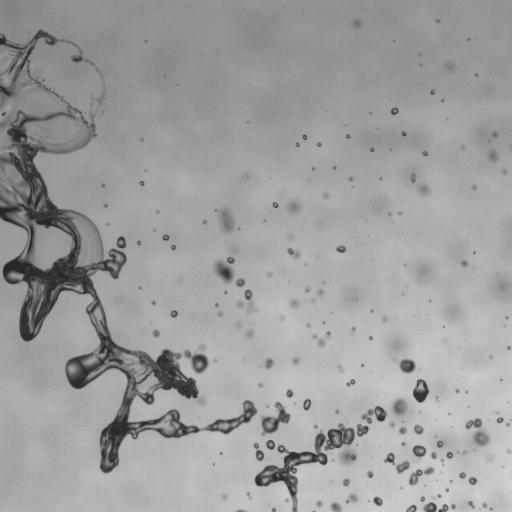droplet: (260, 401, 290, 436), (213, 257, 245, 287), (384, 452, 409, 473), (217, 207, 234, 233), (412, 378, 429, 402), (395, 358, 415, 373), (312, 331, 330, 347), (392, 398, 407, 415), (412, 444, 426, 461), (287, 200, 301, 213), (418, 183, 430, 195), (487, 150, 498, 162), (287, 248, 300, 258), (345, 493, 358, 503), (330, 502, 342, 511), (413, 424, 423, 434), (264, 358, 273, 369), (373, 496, 382, 506), (303, 399, 311, 410), (289, 298, 298, 307), (468, 476, 477, 485), (336, 245, 346, 253), (398, 426, 406, 434), (342, 478, 350, 486), (346, 379, 355, 386), (406, 505, 416, 511), (390, 107, 398, 114), (316, 289, 323, 297), (170, 310, 178, 317), (152, 329, 159, 337), (246, 329, 253, 337), (286, 389, 293, 397), (446, 63, 453, 70), (486, 454, 493, 461), (366, 471, 373, 478), (480, 502, 488, 508), (353, 20, 360, 26), (162, 234, 169, 240), (461, 260, 468, 266), (237, 300, 243, 307), (292, 357, 298, 364), (337, 365, 343, 372), (496, 417, 503, 423), (437, 440, 443, 447), (446, 451, 452, 458), (430, 452, 436, 459), (316, 500, 322, 507), (468, 501, 474, 508), (410, 174, 415, 182), (231, 247, 237, 253), (459, 472, 465, 478), (434, 493, 441, 498), (492, 131, 497, 137), (323, 192, 328, 198), (272, 202, 278, 207), (389, 422, 395, 427), (401, 131, 406, 136), (302, 134, 307, 139), (348, 176, 353, 181), (267, 272, 272, 277), (305, 287, 310, 292), (382, 317, 387, 322), (236, 323, 241, 328), (222, 494, 227, 499), (422, 151, 427, 155), (139, 181, 144, 185), (171, 244, 175, 249), (279, 316, 284, 320), (351, 327, 355, 332), (258, 383, 263, 387), (247, 493, 251, 498), (420, 496, 424, 501), (430, 90, 434, 94), (346, 134, 350, 138), (317, 142, 321, 146), (502, 169, 506, 173), (472, 185, 476, 189), (202, 219, 206, 223), (288, 235, 292, 239), (218, 312, 222, 316), (455, 388, 459, 392), (507, 449, 511, 453), (462, 450, 466, 454), (137, 241, 140, 245), (311, 298, 314, 302), (306, 324, 310, 327), (435, 396, 438, 400), (335, 409, 338, 413), (506, 422, 509, 426), (313, 425, 317, 428), (401, 442, 405, 445), (440, 459, 443, 463), (272, 508, 276, 511), (296, 143, 299, 146), (461, 145, 464, 148), (370, 148, 373, 151), (333, 166, 336, 169), (398, 212, 401, 215), (152, 301, 155, 304), (215, 303, 218, 306), (369, 336, 372, 339), (213, 359, 216, 362), (361, 364, 364, 367), (445, 488, 448, 491), (96, 67, 98, 70), (475, 73, 477, 76), (224, 291, 227, 293), (489, 356, 492, 358), (436, 20, 438, 22), (312, 167, 314, 169), (102, 184, 104, 186), (104, 204, 106, 206), (157, 210, 159, 212), (370, 310, 372, 312), (490, 508, 492, 510)
ligament: (0, 29, 249, 469), (254, 406, 386, 511), (465, 418, 489, 446), (408, 466, 434, 485), (422, 500, 455, 511), (244, 289, 257, 313), (253, 442, 264, 461), (96, 93, 105, 106), (235, 509, 246, 511)
